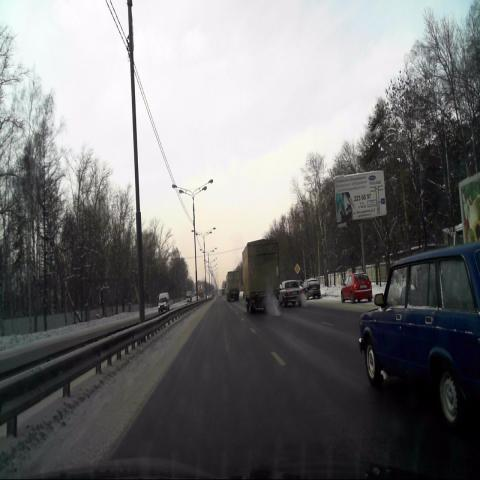2_1: (294, 263, 300, 274)
